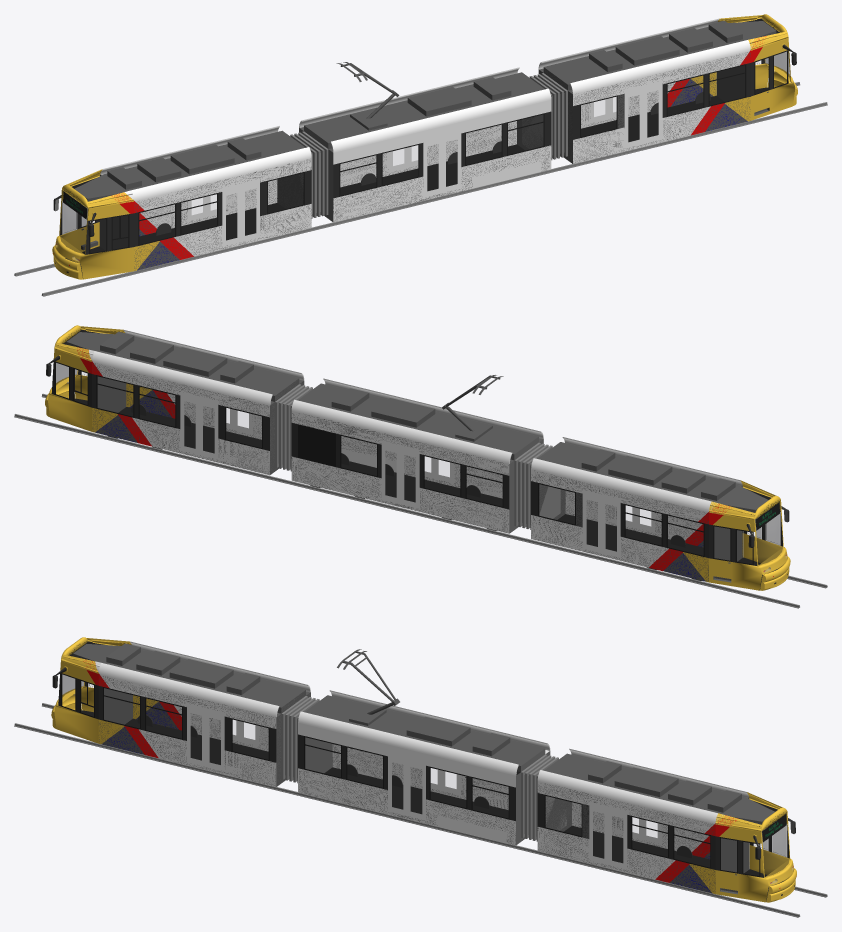
The model's file is Adelaide Flexity Tram.dae.
3 renders of one model, top to bottom at view 1: azimuth 30°, elevation 25°; view 2: azimuth 150°, elevation 25°; view 3: azimuth 330°, elevation 25°, orthographic.
Visible parts, largest first — view 1: Group11, Group3, Group21, Model, Group9, Group8, Group12, Group25, Group15; view 2: Group11, Group3, Group21, Model, Group8, Group9, Group12, Group25, Group15; view 3: Group21, Group3, Group11, Model, Group9, Group8, Group22, Group15, Group25, Group2.
Part boxes in pixels (box(x1,y1,x2,y2)): Group11: box(55, 126, 311, 279); Group3: box(299, 67, 551, 222); Group21: box(538, 14, 794, 163); Model: box(14, 82, 827, 296); Group9: box(522, 73, 567, 160); Group8: box(290, 131, 328, 218); Group12: box(60, 191, 87, 254); Group25: box(717, 65, 745, 101); Group15: box(99, 174, 128, 250); Group11: box(531, 437, 787, 590); Group3: box(291, 378, 543, 533); Group21: box(48, 325, 304, 475); Model: box(14, 393, 827, 608); Group8: box(514, 442, 560, 529); Group9: box(275, 384, 312, 471); Group12: box(755, 502, 782, 564); Group25: box(97, 376, 126, 412); Group15: box(714, 486, 742, 561); Group21: box(537, 748, 796, 902); Group3: box(298, 690, 550, 845); Group11: box(54, 637, 310, 786); Model: box(14, 703, 827, 917); Group9: box(521, 754, 566, 841); Group8: box(281, 696, 319, 783); Group22: box(761, 813, 789, 876); Group15: box(104, 688, 132, 724); Group25: box(721, 797, 749, 873); Group2: box(337, 649, 399, 714).
Bounding box in the file's own units: 31.89 × 2.6 × 5.34.
